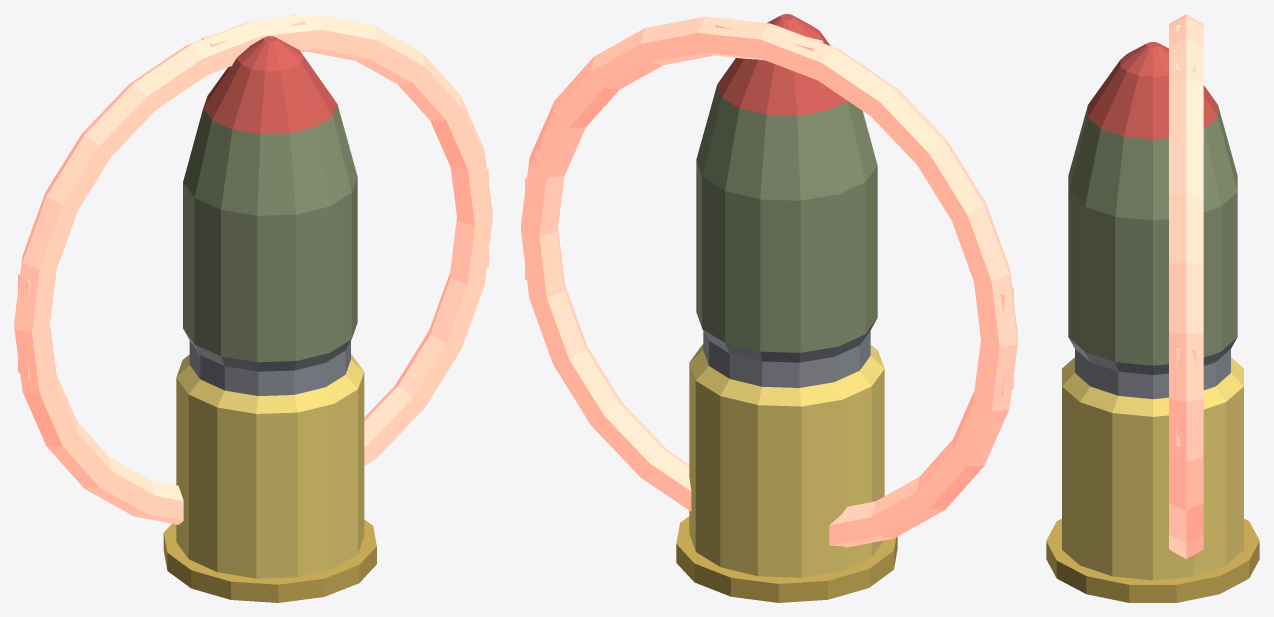
The model's file is item_elite.glb.
The picture shows the model from 3 angles, left to right: view 1: azimuth 30°, elevation 25°; view 2: azimuth 150°, elevation 25°; view 3: azimuth 270°, elevation 25°; orthographic projection. The views are drawn at different scales.
Visible parts, largest first — view 1: item_elite; view 2: item_elite; view 3: item_elite.
Part boxes in pixels (x1,y1,x2,y2): item_elite: (14,14,492,602); item_elite: (521,14,1017,602); item_elite: (1046,14,1259,602).
Size of the model in its own units: 0.82 by 0.86 by 0.32.
